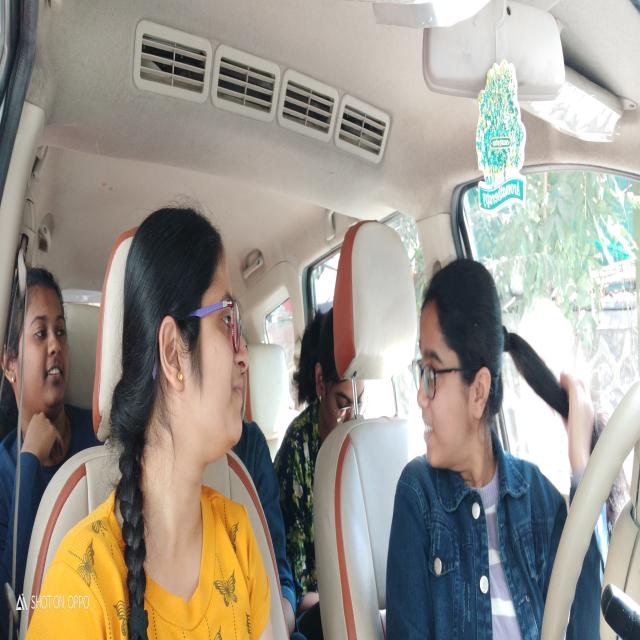LeftRight: (414, 272, 502, 469)
person: (139, 221, 251, 450), (8, 276, 72, 418), (299, 308, 369, 431)
talking: (421, 416, 438, 442)
